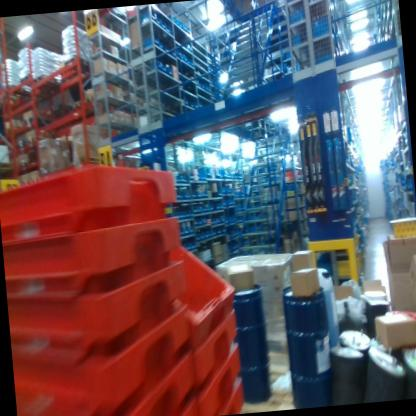small_load_carrier: (9, 287, 198, 416), (5, 252, 193, 359), (0, 143, 192, 240), (146, 200, 259, 354), (4, 208, 191, 296), (180, 294, 256, 392), (191, 343, 257, 414)
